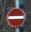No entry: (6, 6, 26, 27)
